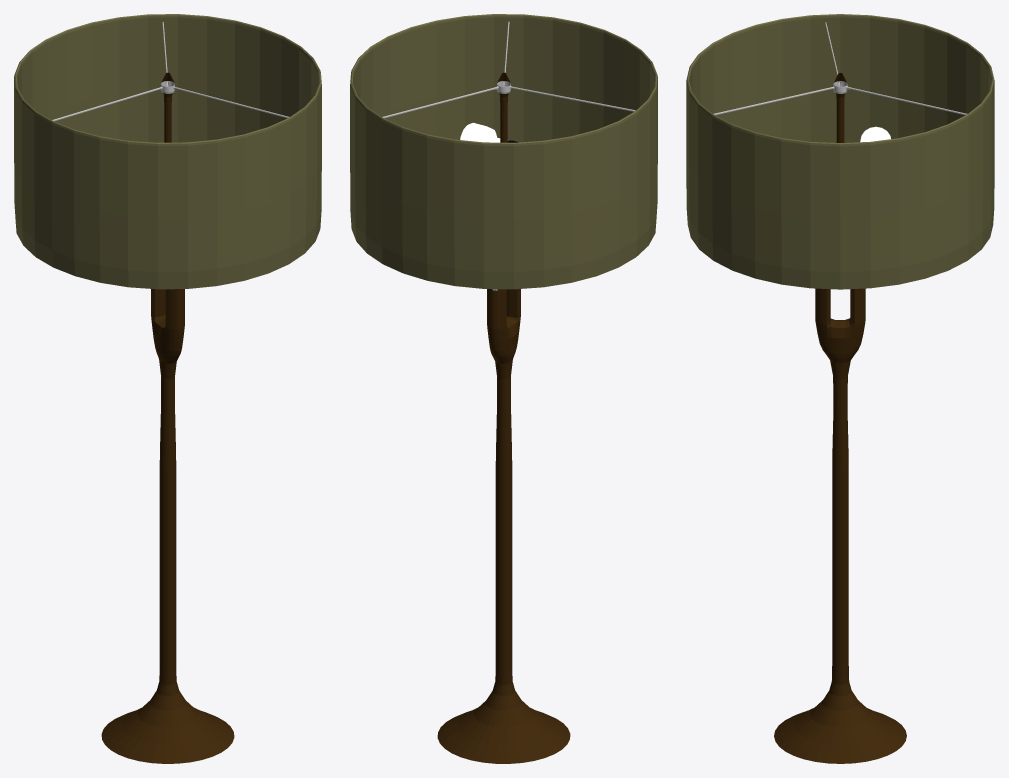
File: mid_century_modern_floor_lamp.glb
The picture shows the model from 3 angles, left to right: view 1: azimuth 30°, elevation 25°; view 2: azimuth 150°, elevation 25°; view 3: azimuth 270°, elevation 25°; orthographic projection.
Visible parts, largest first — view 1: Object_5, Object_4, Object_2; view 2: Object_5, Object_4, Object_2, Object_6; view 3: Object_5, Object_4, Object_2.
Part boxes in pixels (x1,y1,x2,y2): Object_5: [14, 14, 321, 289]; Object_4: [101, 72, 234, 763]; Object_2: [52, 22, 289, 121]; Object_5: [350, 14, 657, 289]; Object_4: [437, 72, 570, 763]; Object_2: [382, 21, 635, 118]; Object_6: [460, 122, 508, 142]; Object_5: [686, 14, 994, 289]; Object_4: [774, 73, 906, 763]; Object_2: [714, 22, 966, 115].
Bounding box in the file's own units: 7.34 × 17.44 × 7.34.
